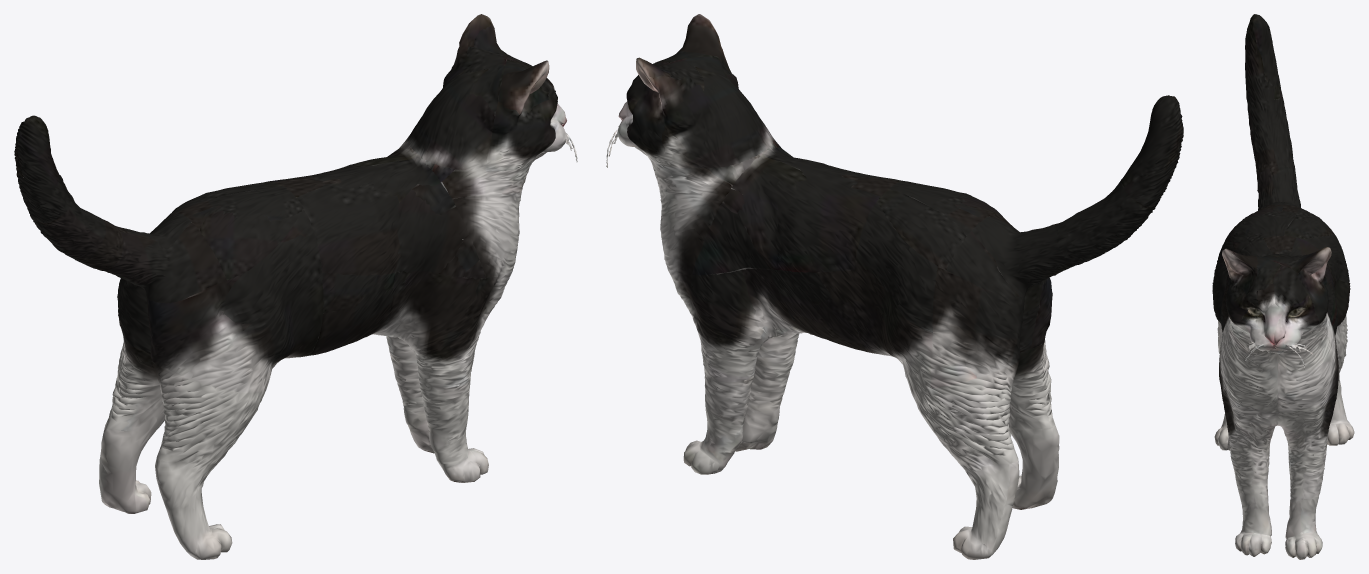
File: JJINGJJING.glb
3 renders of one model, left to right at view 1: azimuth 30°, elevation 25°; view 2: azimuth 150°, elevation 25°; view 3: azimuth 270°, elevation 25°, orthographic. The views are drawn at different scales.
Parts seen in each view (by area): view 1: tripo_node_92949f0e-f000-4858-aa90-6d16a549dd9c; view 2: tripo_node_92949f0e-f000-4858-aa90-6d16a549dd9c; view 3: tripo_node_92949f0e-f000-4858-aa90-6d16a549dd9c.
Boxes of the visible parts, x1,y1,x2,y2 form: tripo_node_92949f0e-f000-4858-aa90-6d16a549dd9c: (14, 14, 577, 559); tripo_node_92949f0e-f000-4858-aa90-6d16a549dd9c: (606, 14, 1183, 559); tripo_node_92949f0e-f000-4858-aa90-6d16a549dd9c: (1212, 14, 1354, 559).
Bounding box in the file's own units: 1.26 × 0.9985 × 0.3483.
Materials: 1 (1 with a texture image).
